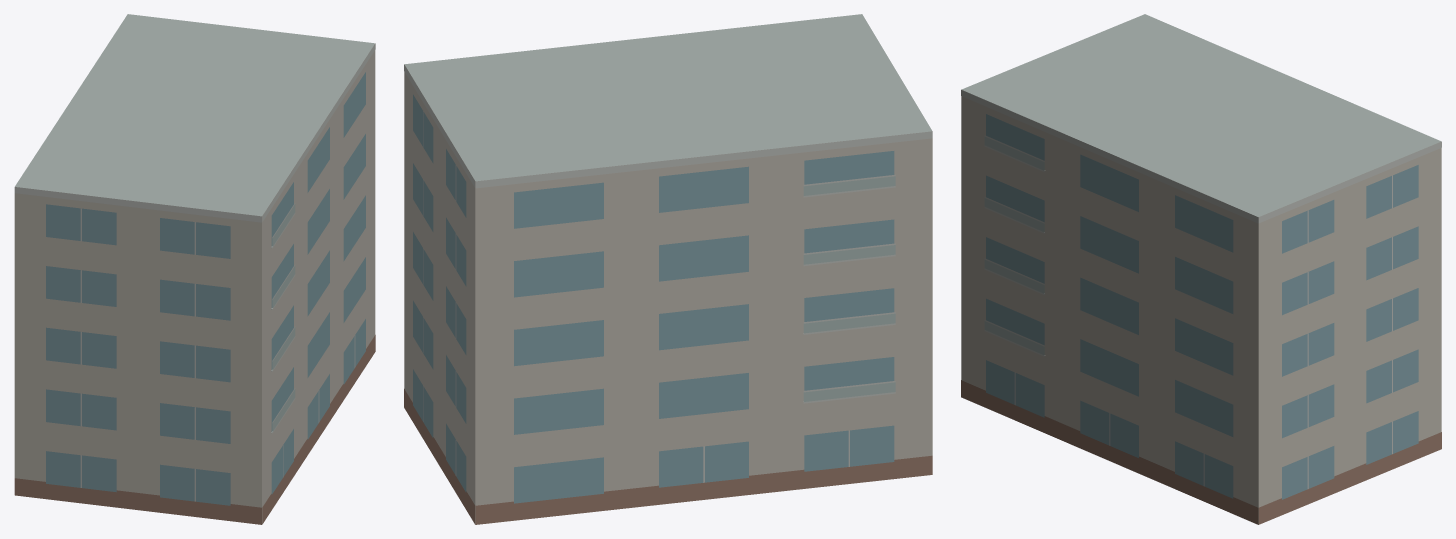
The model's file is survey-upis-32665320.glb.
3 views of the same model, side by side, from view 1: azimuth 30°, elevation 25°; view 2: azimuth 150°, elevation 25°; view 3: azimuth 270°, elevation 25° (orthographic). The views are drawn at different scales.
Parts seen in each view (by area): view 1: survey-upis-32665320.tmp; view 2: survey-upis-32665320.tmp; view 3: survey-upis-32665320.tmp.
Boxes of the visible parts, box(x1,y1,x2,y2) form: survey-upis-32665320.tmp: box(14, 14, 375, 524); survey-upis-32665320.tmp: box(404, 14, 932, 524); survey-upis-32665320.tmp: box(961, 14, 1441, 524).
Bounding box in the file's own units: 16.87 × 11.9 × 16.85.
